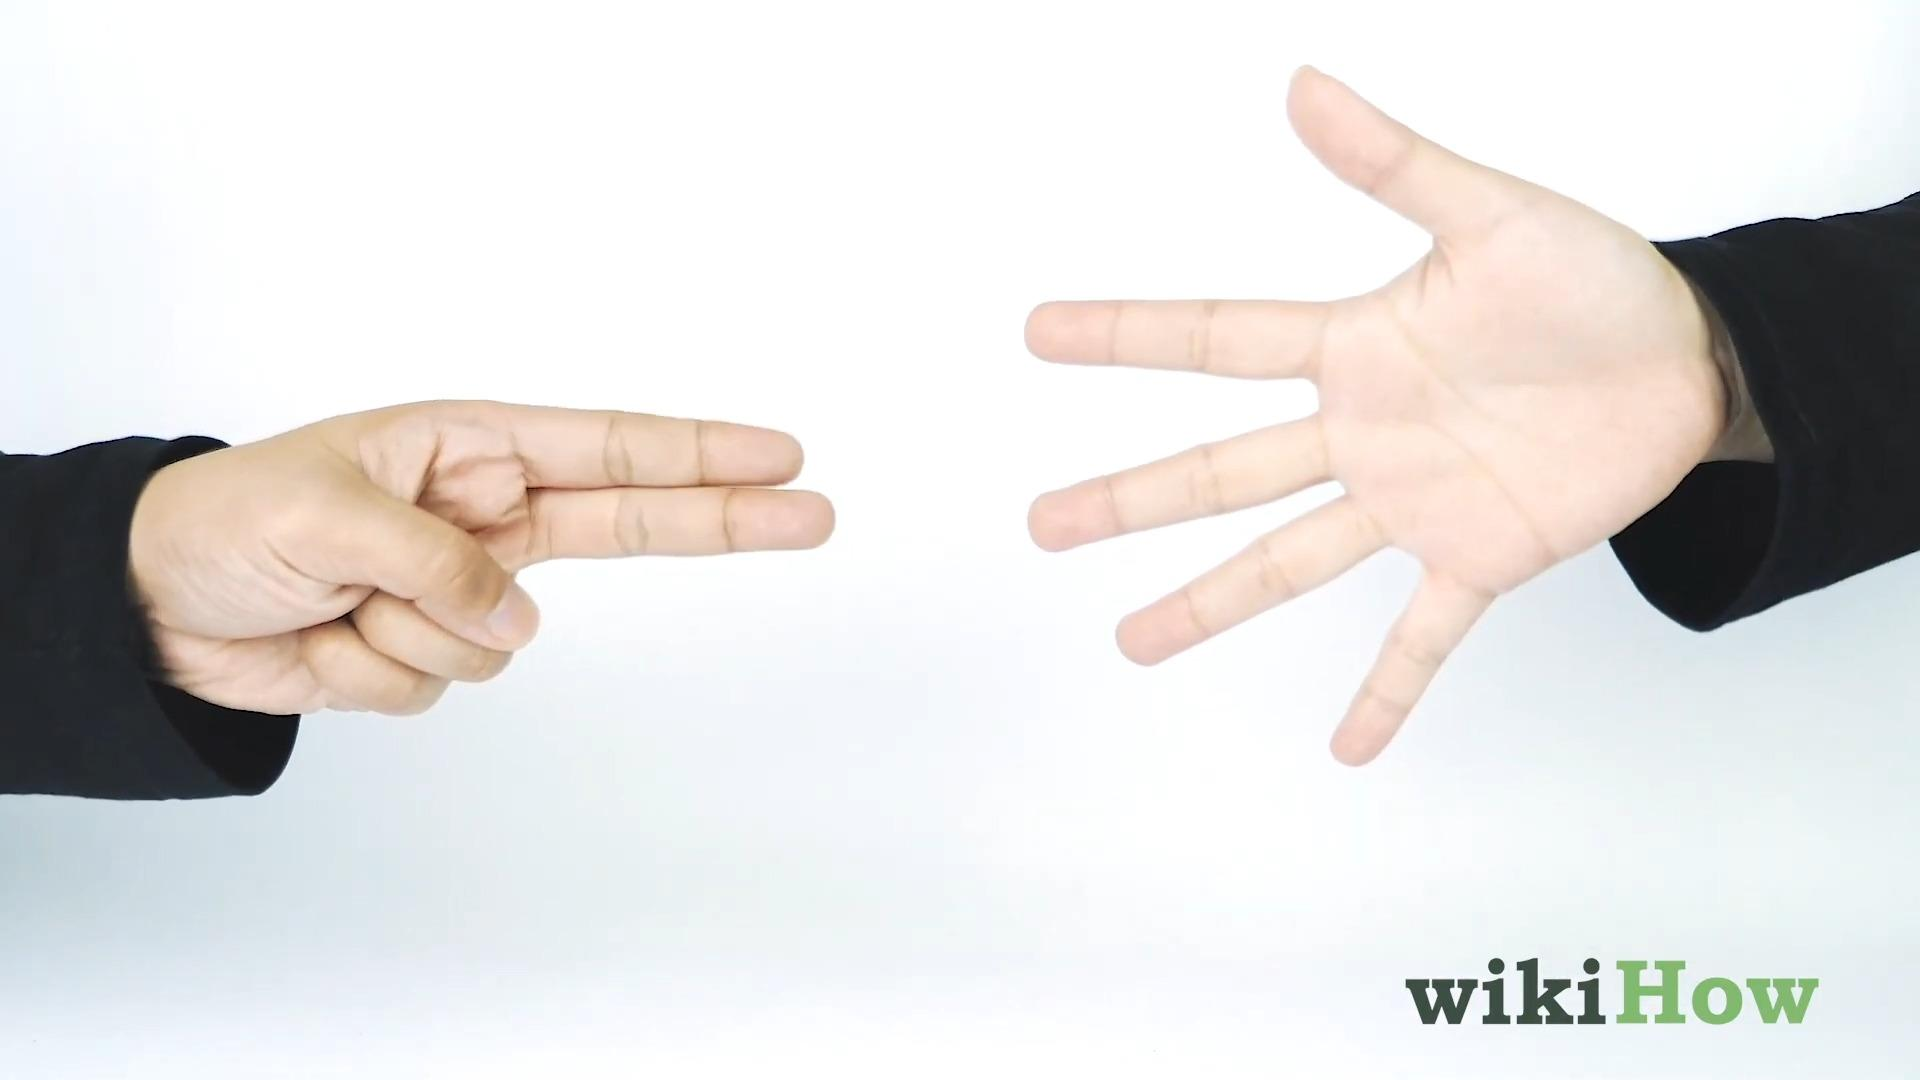Paper: (1015, 65, 1724, 770)
Scissors: (142, 397, 837, 719)
